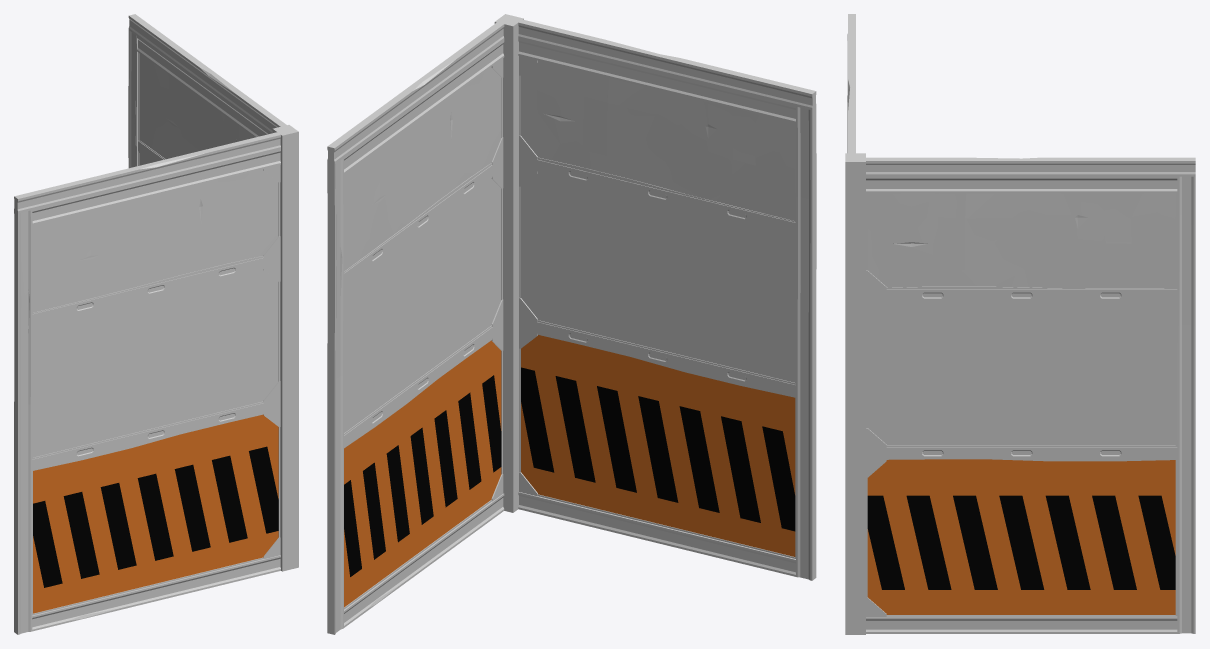
File: SM_Wall_Angle_03.glb
3 views of the same model, side by side, from view 1: azimuth 30°, elevation 25°; view 2: azimuth 150°, elevation 25°; view 3: azimuth 270°, elevation 25° (orthographic). The views are drawn at different scales.
Visible parts, largest first — view 1: SM_Wall_Angle_03; view 2: SM_Wall_Angle_03; view 3: SM_Wall_Angle_03.
Part boxes in pixels (<box>): SM_Wall_Angle_03: <box>14,14,298,634</box>; SM_Wall_Angle_03: <box>327,14,816,634</box>; SM_Wall_Angle_03: <box>845,14,1195,634</box>.
Bounding box in the file's own units: 2.01 × 3 × 2.01.
